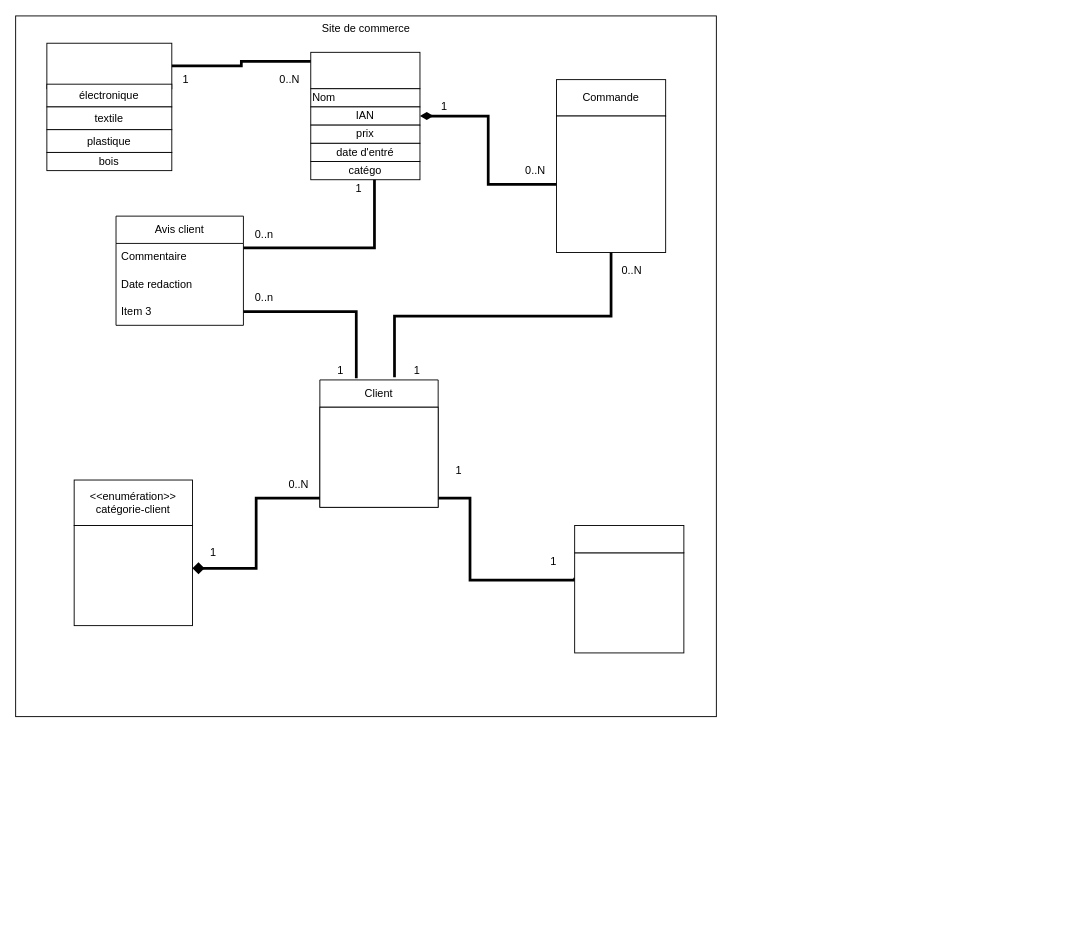
Image size: 1073x942. Some labels were removed from this diagram. The shapes that lost their labels are listed below. From the top down, each one's centre as x and y in pixels, then its label:
(109,65): Catégorie [enumeration]
(365,70): Prduit
(611,184): IAN Quantité Remise Sous-total Taxes
(378,456): nom adresse électronique date inscription site date de naissance
(629,539): adresse postale
(132,575): ancien client moteur de recherche réseaux sociaux partenariat
(629,602): numéro rue code postale commune pays
